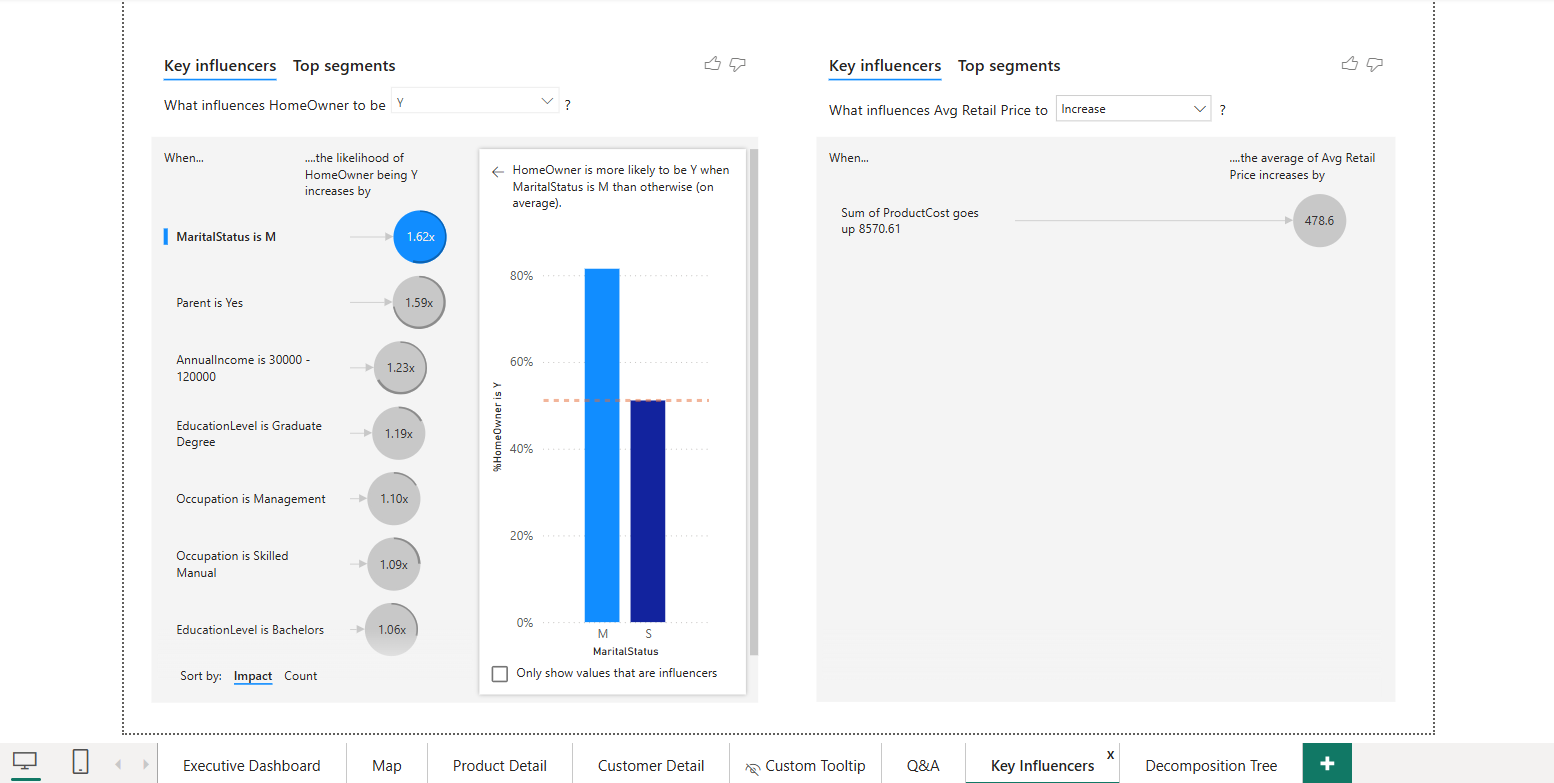

The page's visual inventory and layout, read from the dashboard file:
{"tool":"powerbi","page":{"name":"Key Influencers ","canvas":[1280,720],"ordinal":6},"visuals":[{"type":"keyDriversVisual","fields":{"Target":["Customer Lookup.HomeOwner"],"ExplainBy":["Customer Lookup.AnnualIncome","Customer Lookup.EducationLevel","Customer Lookup.Parent","Customer Lookup.MaritalStatus","Customer Lookup.Occupation"]},"box":[21.6,41.8,603.1,653.6],"z":0},{"type":"keyDriversVisual","fields":{"Target":["Measure Table.Avg Retail Price"],"ExplainBy":["Sum(Product Lookup.ProductCost)"],"Details":["Product Subcategories Lookup.SubcategoryName"]},"box":[672.6,41.6,576,653],"z":1000}]}

Visuals, with their boxes on the page's 1280x720 design canvas (x1, y1, x2, y2). These are canvas units, not pixel positions in the 1554x783 screenshot, which may show the page scaled, cropped or inside an application window:
keyDriversVisual - Customer Lookup.HomeOwner x Customer Lookup.AnnualIncome: [22, 42, 625, 695]
keyDriversVisual - Measure Table.Avg Retail Price x Sum(Product Lookup.ProductCost): [673, 42, 1249, 695]
